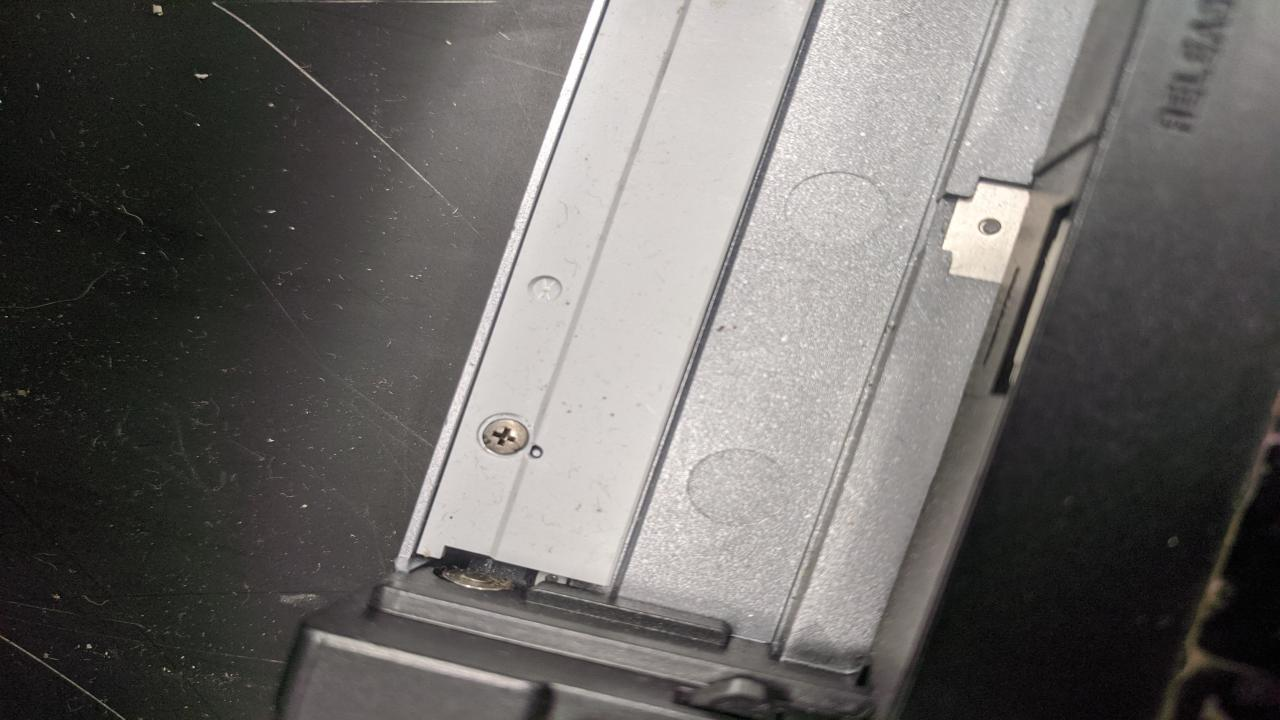CRS: (483, 418, 530, 456)
